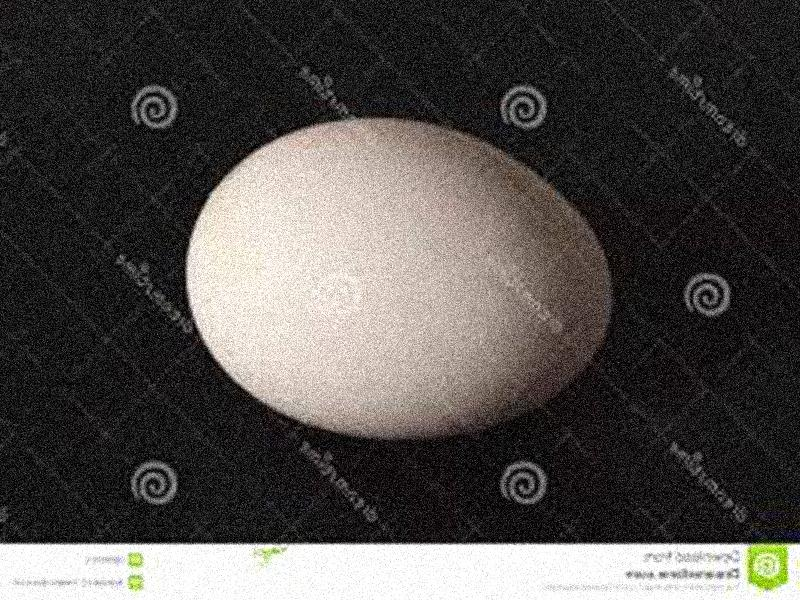Eggs: (182, 118, 613, 438)
